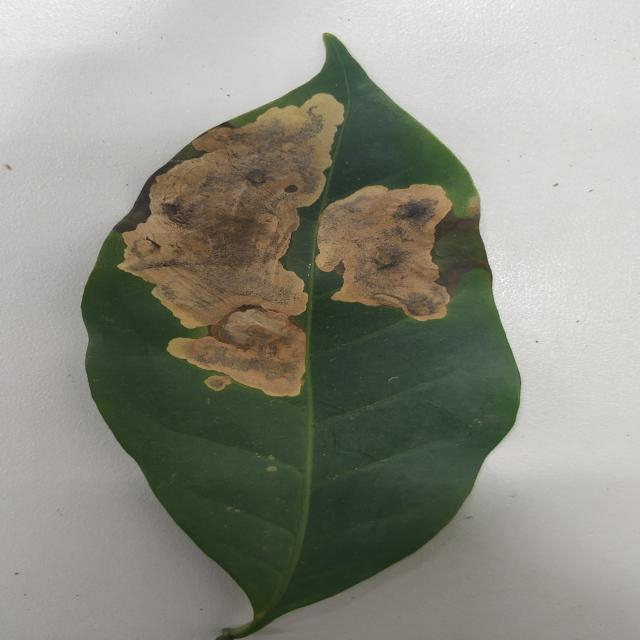Plaga-Minador: (81, 34, 523, 637)
